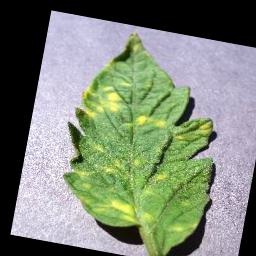Leaf_Mold: (73, 79, 124, 123), (94, 194, 156, 228), (133, 111, 168, 130), (196, 119, 213, 138), (152, 171, 168, 182), (173, 132, 187, 142)
